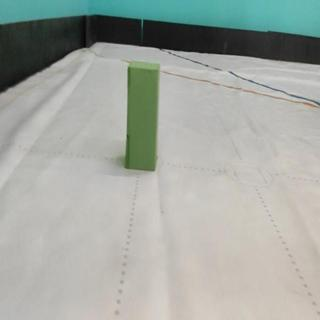greenbox: (125, 59, 162, 174)
